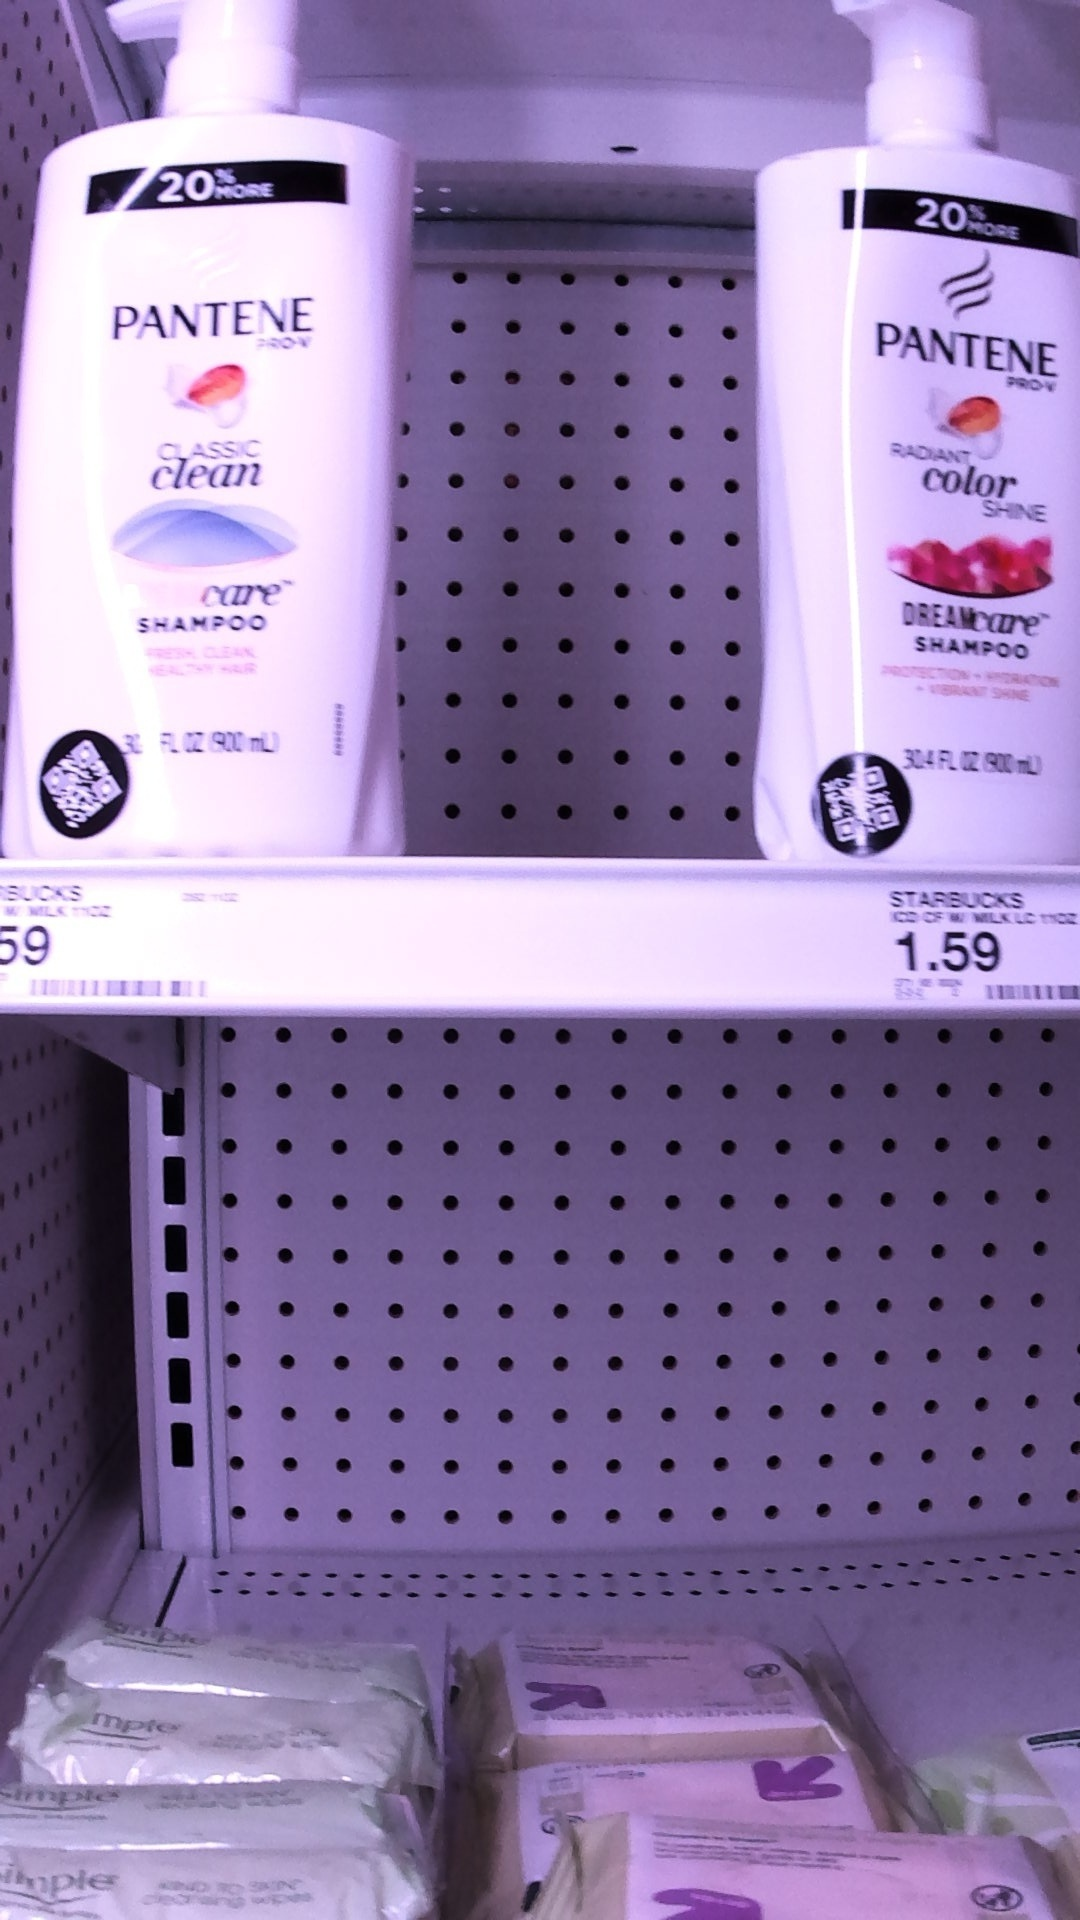ptag: (1, 873, 264, 1015), (866, 877, 1080, 1013)
